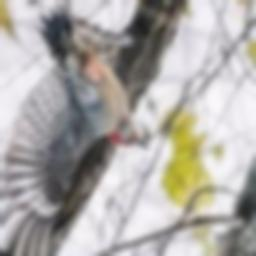Woodpecker: (0, 1, 148, 256)
